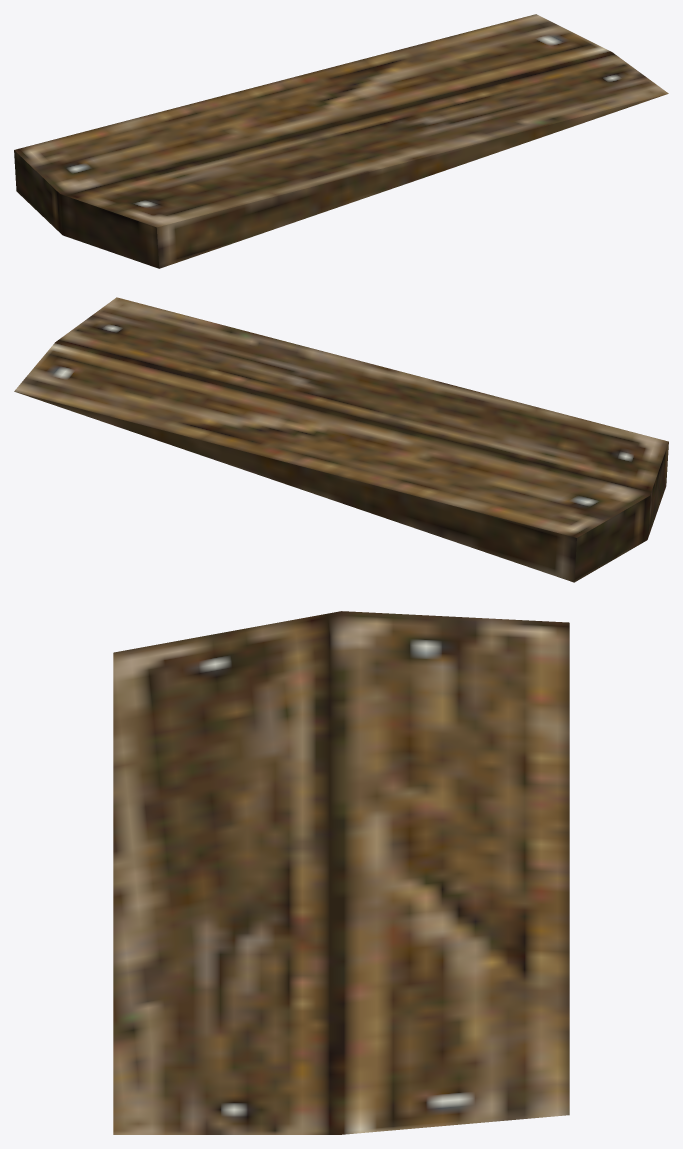
Rendered from 7001_Item_wujian_17.FBX.
3 renders of one model, top to bottom at view 1: azimuth 30°, elevation 25°; view 2: azimuth 150°, elevation 25°; view 3: azimuth 270°, elevation 25°, orthographic. The views are drawn at different scales.
Visible parts, largest first — view 1: 7001_Item_wujian_17; view 2: 7001_Item_wujian_17; view 3: 7001_Item_wujian_17.
Boxes of the visible parts, bbox=[...] form: 7001_Item_wujian_17: bbox=[14, 14, 668, 268]; 7001_Item_wujian_17: bbox=[14, 297, 668, 582]; 7001_Item_wujian_17: bbox=[113, 611, 569, 1134].
Bounding box in the file's own units: 55.13 × 4.92 × 19.74.
